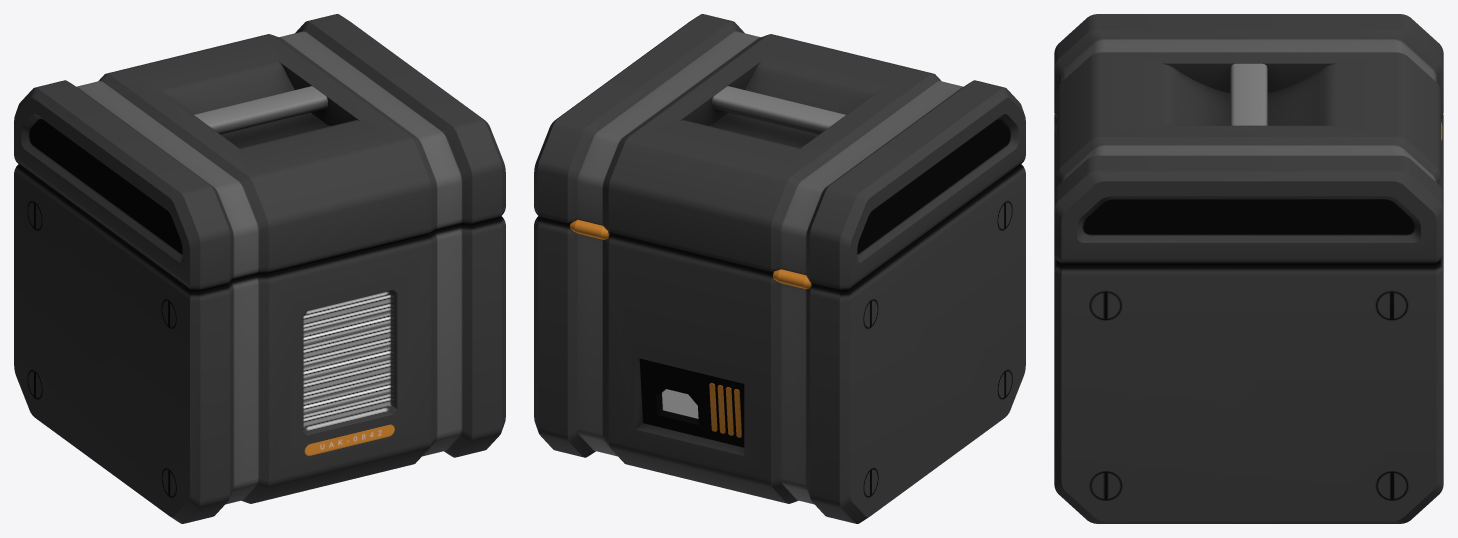
The model's file is crate01.gltf.
The picture shows the model from 3 angles, left to right: view 1: azimuth 30°, elevation 25°; view 2: azimuth 150°, elevation 25°; view 3: azimuth 270°, elevation 25°; orthographic projection. The views are drawn at different scales.
Parts seen in each view (by area): view 1: Crate01; view 2: Crate01; view 3: Crate01.
Part boxes in pixels (x1,y1,x2,y2): Crate01: (14, 14, 505, 523); Crate01: (534, 14, 1025, 523); Crate01: (1054, 14, 1443, 523).
Size of the model in its own units: 0.96 by 0.96 by 0.96.
Materials: 1 (1 with a texture image).
